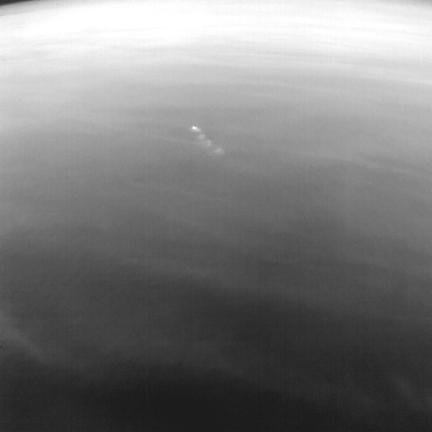flukeprints: (200, 139, 213, 148), (213, 147, 224, 154), (198, 133, 206, 141), (191, 126, 200, 130)
